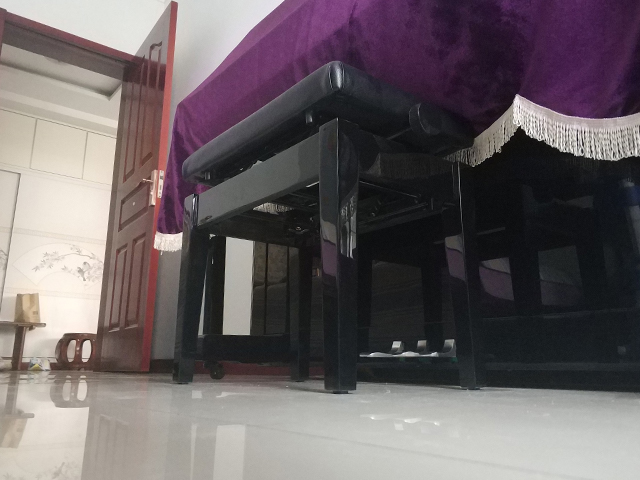stool: (169, 58, 488, 396), (52, 330, 99, 372)
